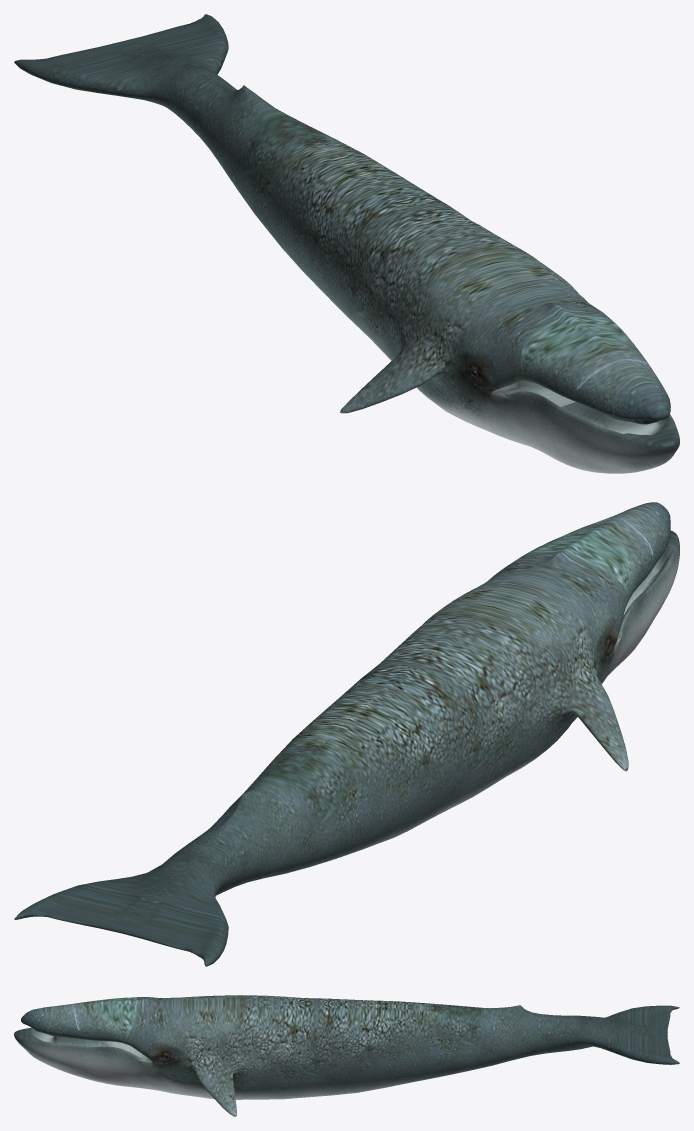
The model's file is WhaleMesh.fbx.
3 renders of one model, top to bottom at view 1: azimuth 30°, elevation 25°; view 2: azimuth 150°, elevation 25°; view 3: azimuth 270°, elevation 25°, orthographic. The views are drawn at different scales.
Visible parts, largest first — view 1: BL_WHALE; view 2: BL_WHALE; view 3: BL_WHALE.
Part boxes in pixels (bbox=[...]): BL_WHALE: bbox=[14, 14, 679, 473]; BL_WHALE: bbox=[14, 502, 679, 966]; BL_WHALE: bbox=[14, 995, 679, 1116].
Size of the model in its own units: 941 by 518 by 3181.
Materials: 1 (1 with a texture image).
